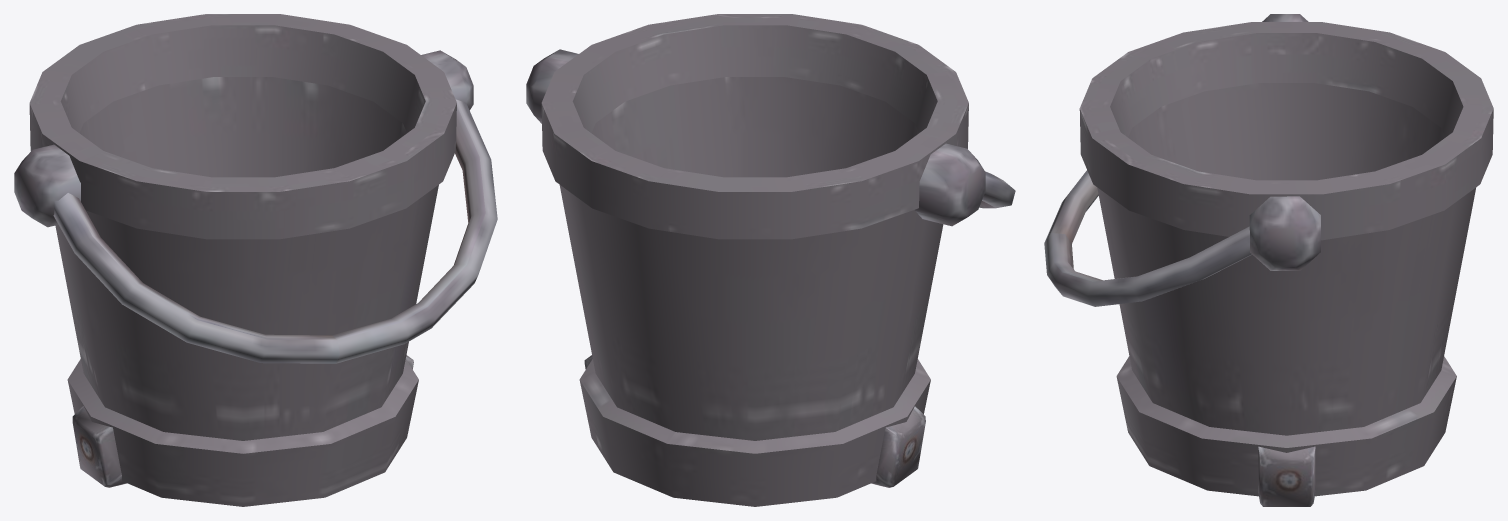
Rendered from bucket_metal.glb.
The picture shows the model from 3 angles, left to right: view 1: azimuth 30°, elevation 25°; view 2: azimuth 150°, elevation 25°; view 3: azimuth 270°, elevation 25°; orthographic projection. The views are drawn at different scales.
Visible parts, largest first — view 1: Bucket_Metal; view 2: Bucket_Metal; view 3: Bucket_Metal.
Boxes of the visible parts, x1=… form: Bucket_Metal: x1=14, y1=14, x2=497, y2=506; Bucket_Metal: x1=526, y1=14, x2=1015, y2=506; Bucket_Metal: x1=1044, y1=14, x2=1493, y2=506.
Size of the model in its own units: 0.4854 by 0.3651 by 0.449.
Materials: 1 (1 with a texture image).
